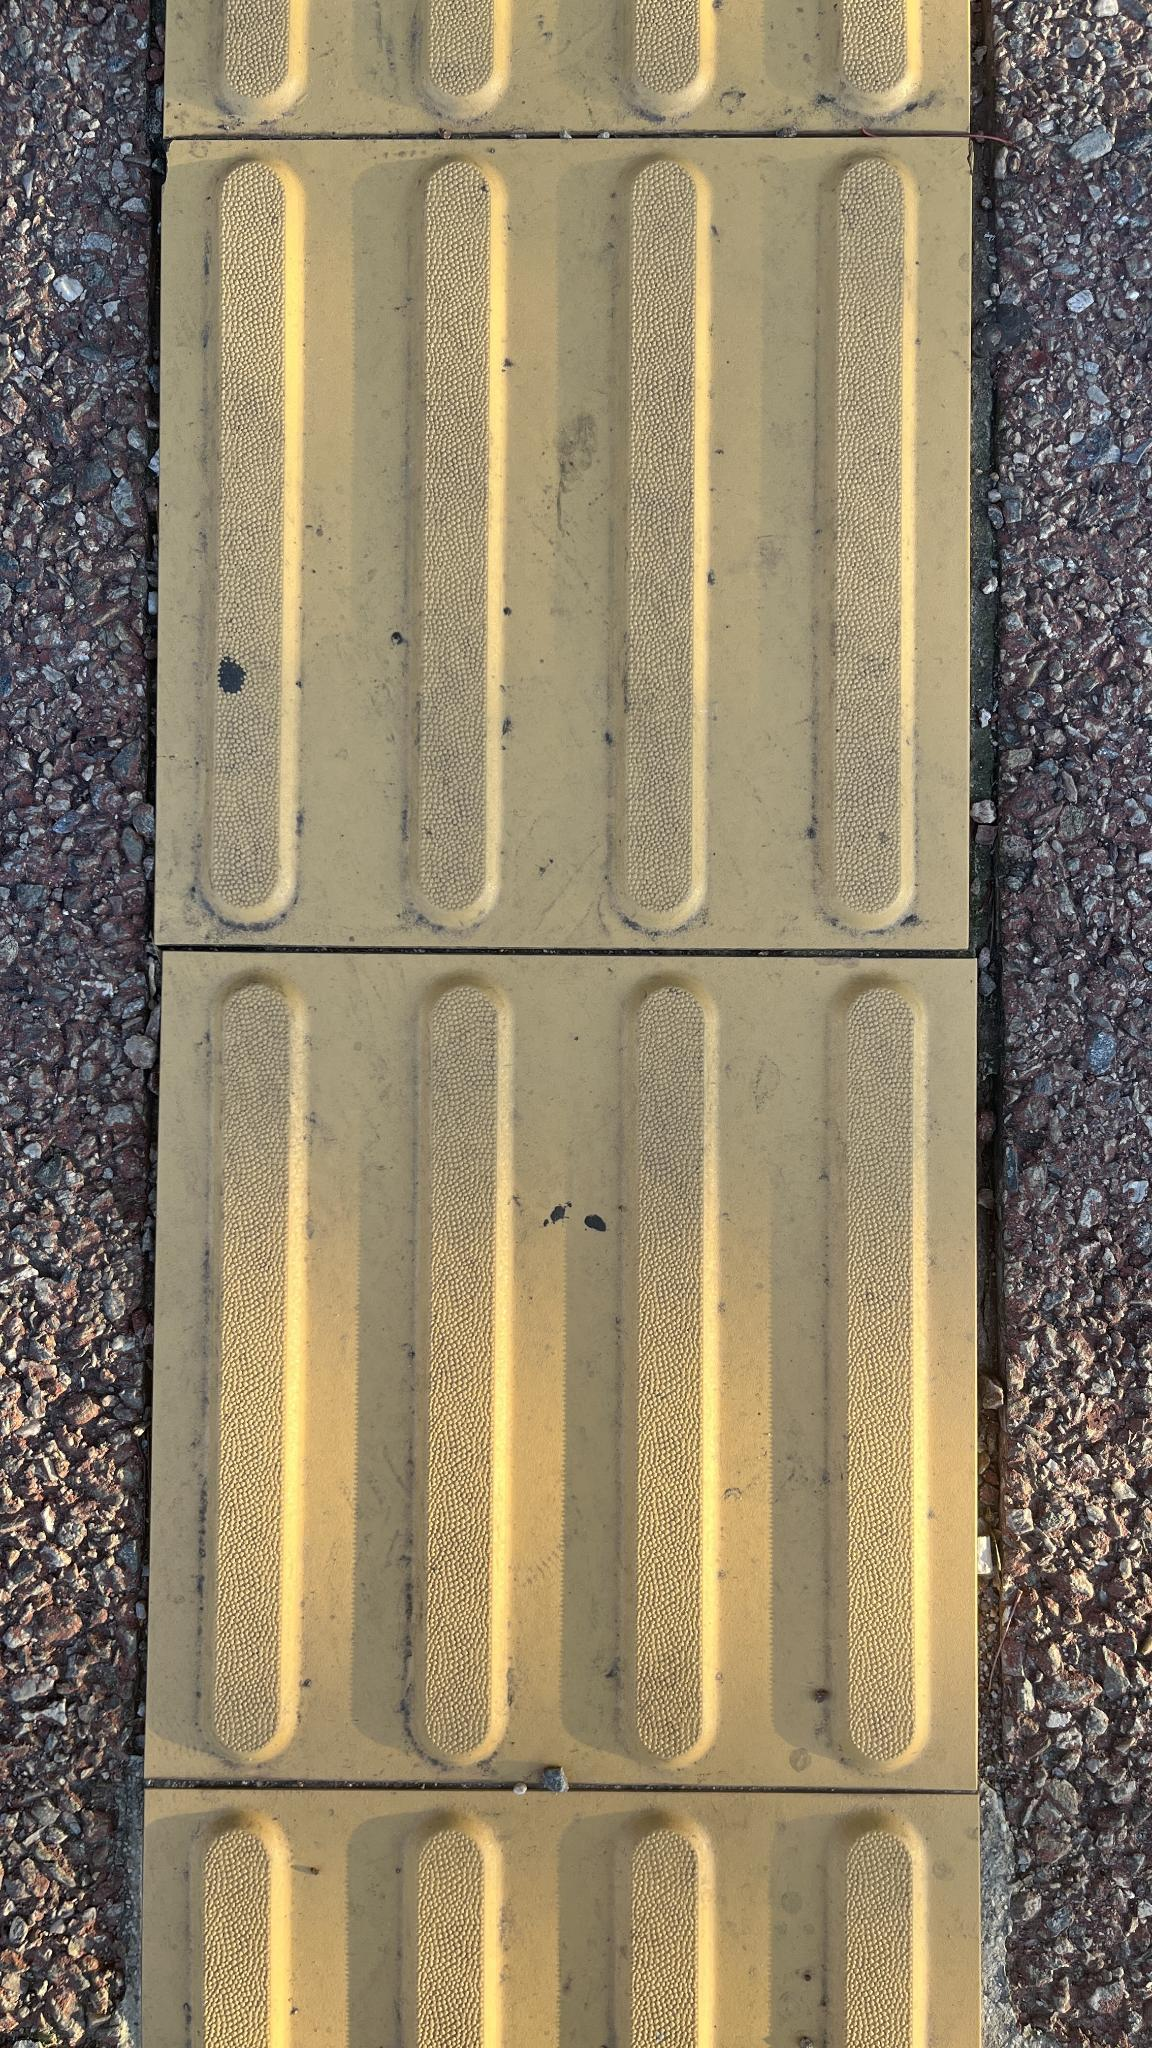Straight block normal: (153, 959, 971, 1784), (173, 148, 961, 937)
